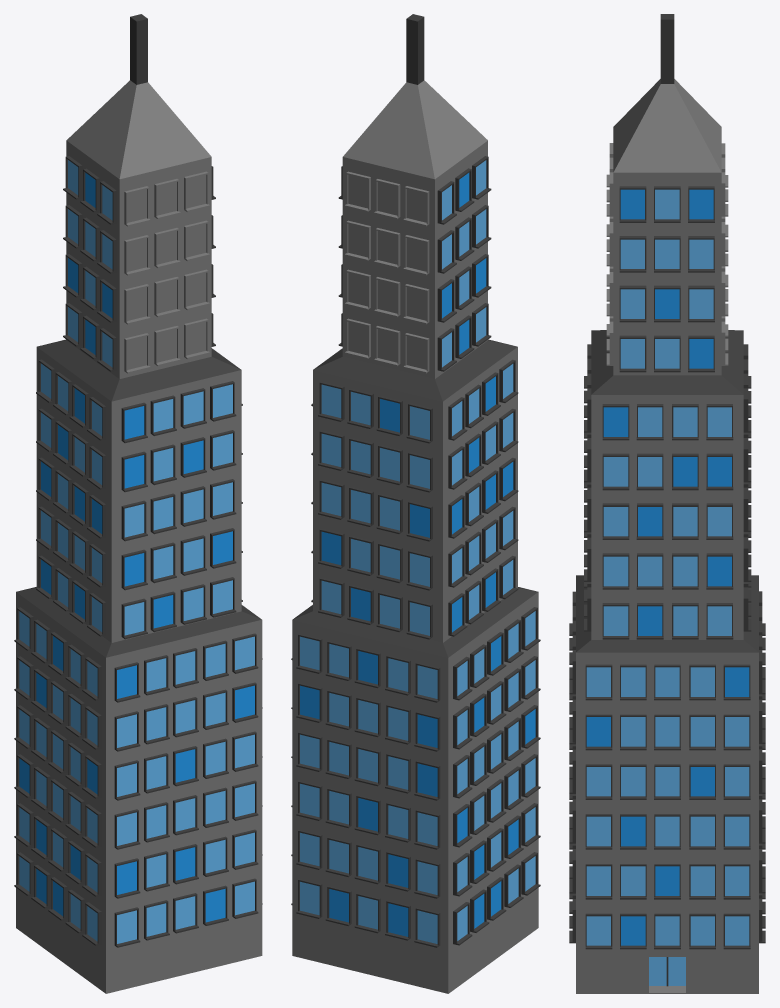
The model's file is building_03.fbx.
The picture shows the model from 3 angles, left to right: view 1: azimuth 30°, elevation 25°; view 2: azimuth 150°, elevation 25°; view 3: azimuth 270°, elevation 25°; orthographic projection.
Parts seen in each view (by area): view 1: building_03; view 2: building_03; view 3: building_03.
Boxes of the visible parts, left/top/right/bottom form: building_03: left=14, top=14, right=262, bottom=993; building_03: left=291, top=14, right=540, bottom=993; building_03: left=569, top=14, right=765, bottom=993.
Size of the model in its own units: 1072 by 5657 by 1072.
1 material, 1 textured.
